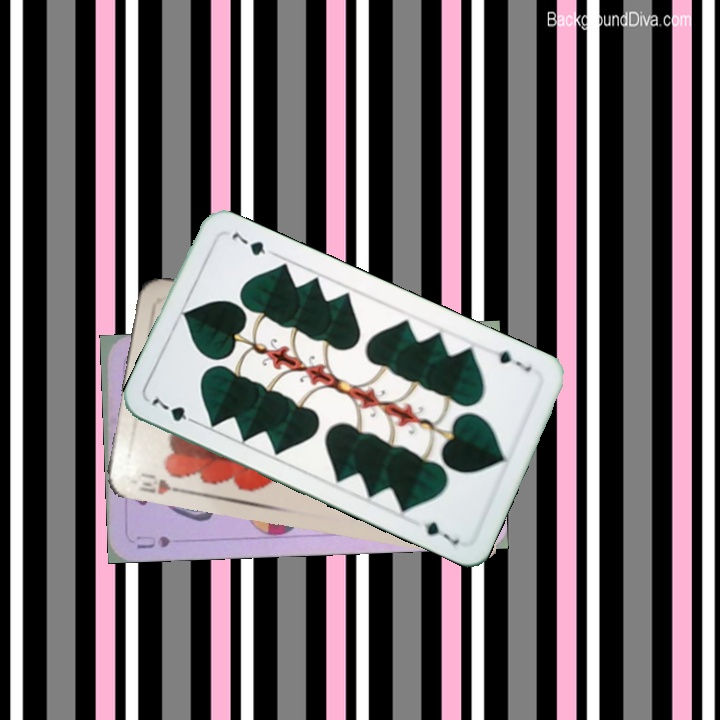G7: (147, 391, 201, 428), (493, 346, 535, 374)
H10: (134, 468, 187, 497)
SU: (132, 531, 173, 552)
